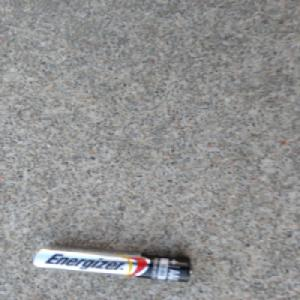Battery: (28, 245, 194, 282)
